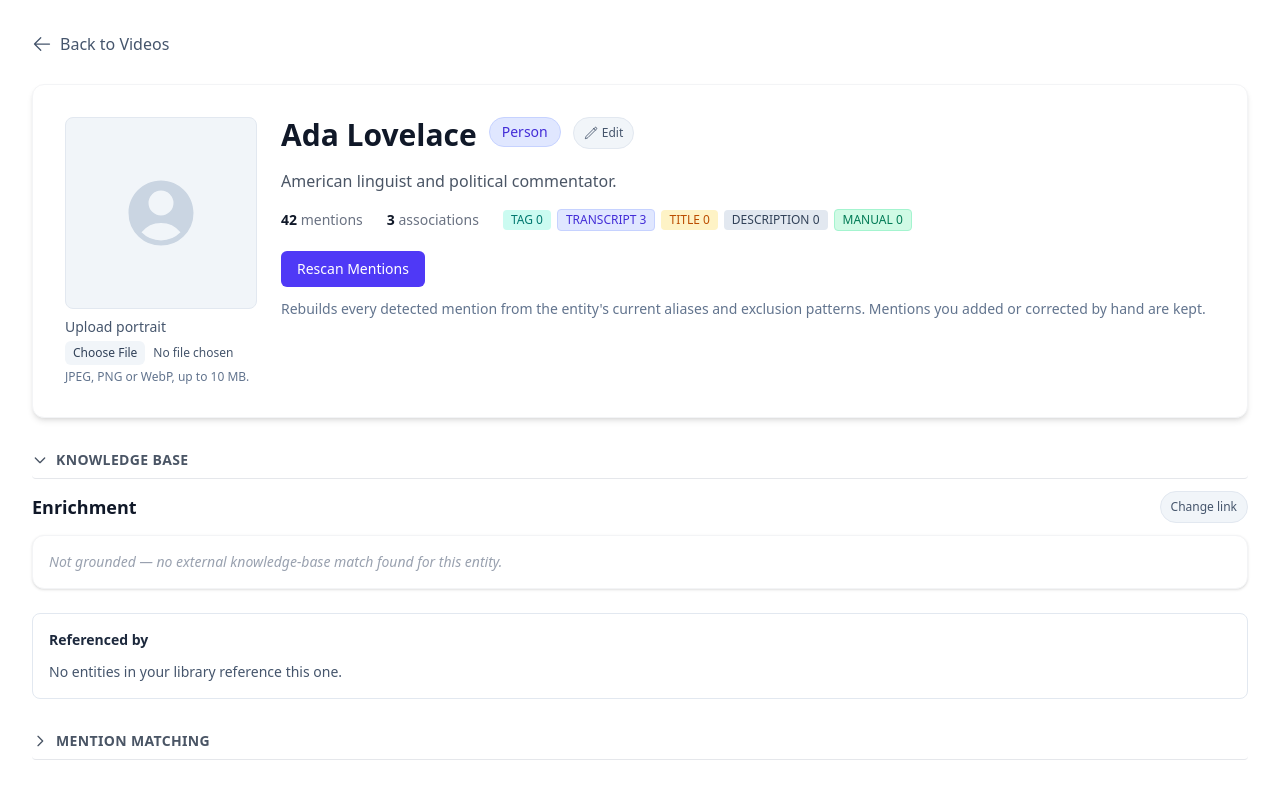
Test: AddAliasForm (inside EntityDetailPage) › Test 3 — Successful alias creation › shows a success message after creation
Click the button "Mention matching" at (133, 740), box [32,723,1248,760]
(page scrolled)
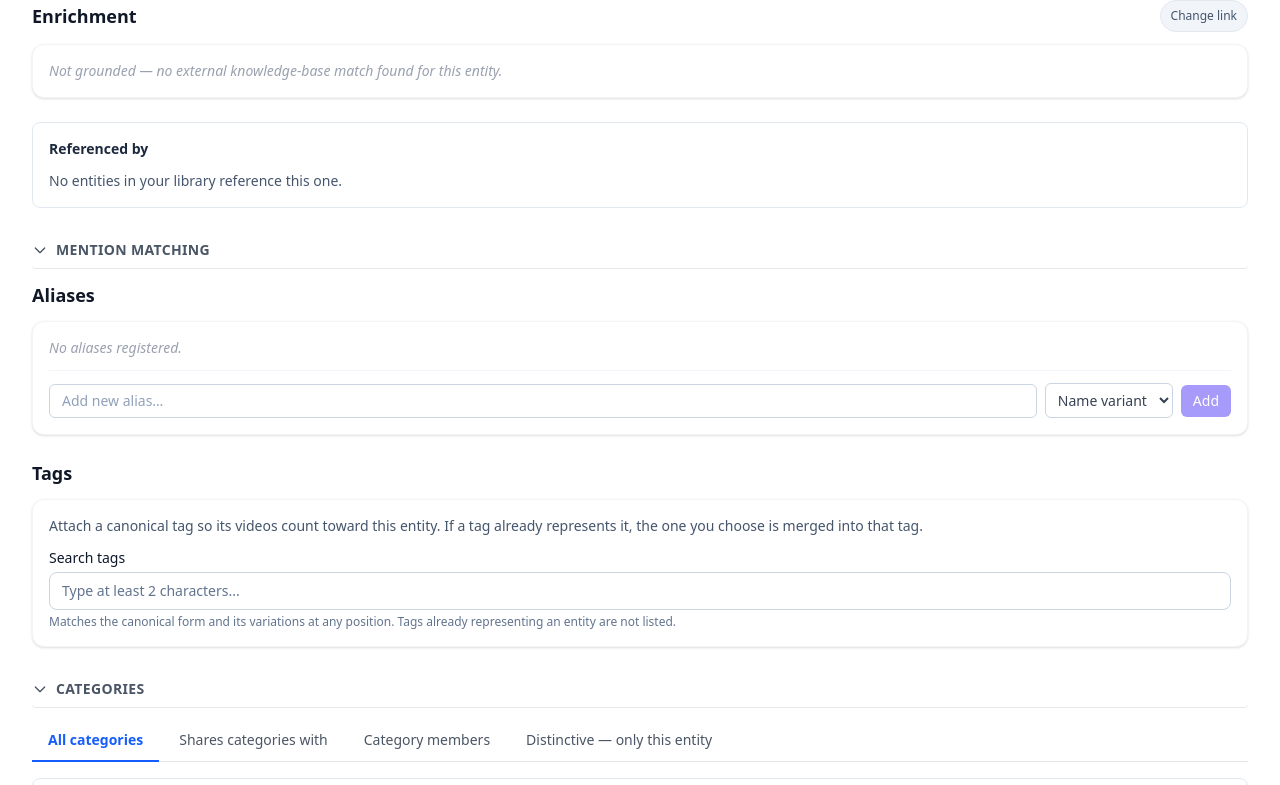
Type "Lovelace" into the field named "alias name" at (543, 400), box [49,384,1037,418]
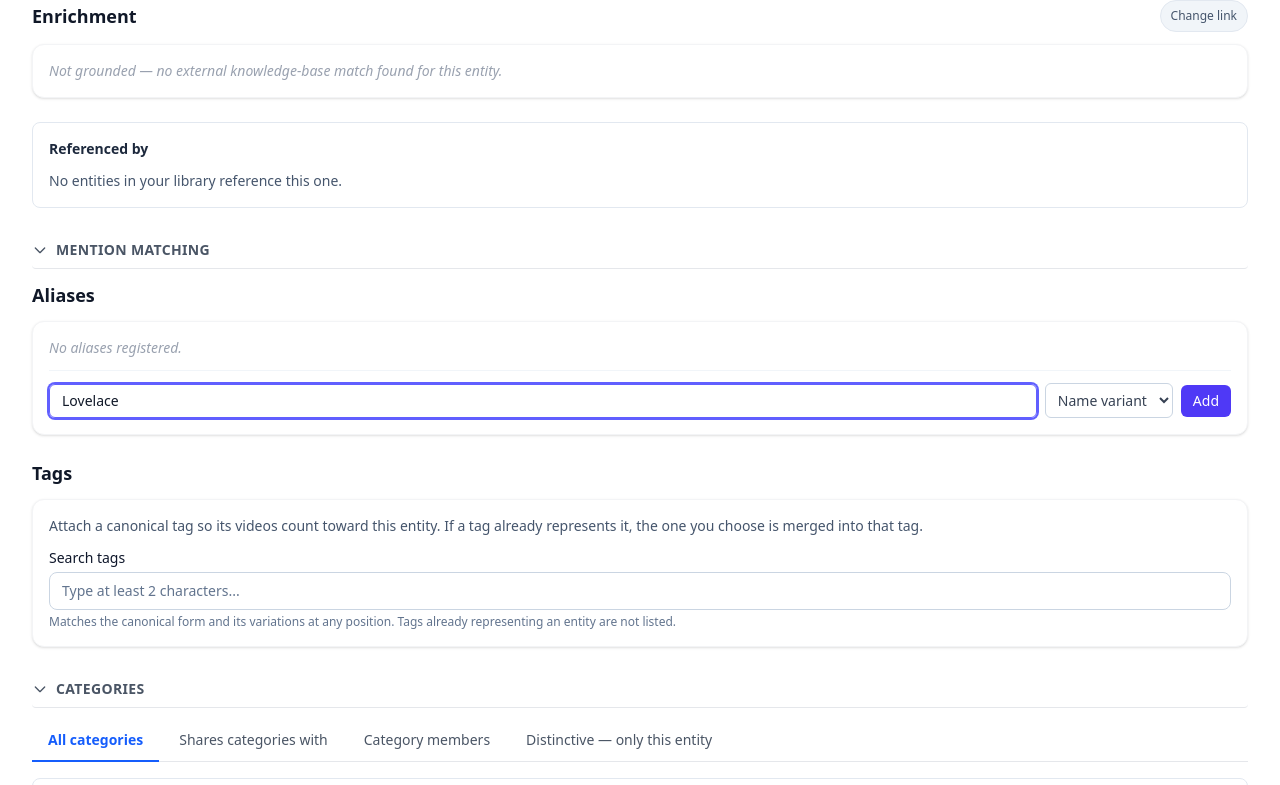
Click the button "Add" at (1206, 400), box [1181,384,1231,416]
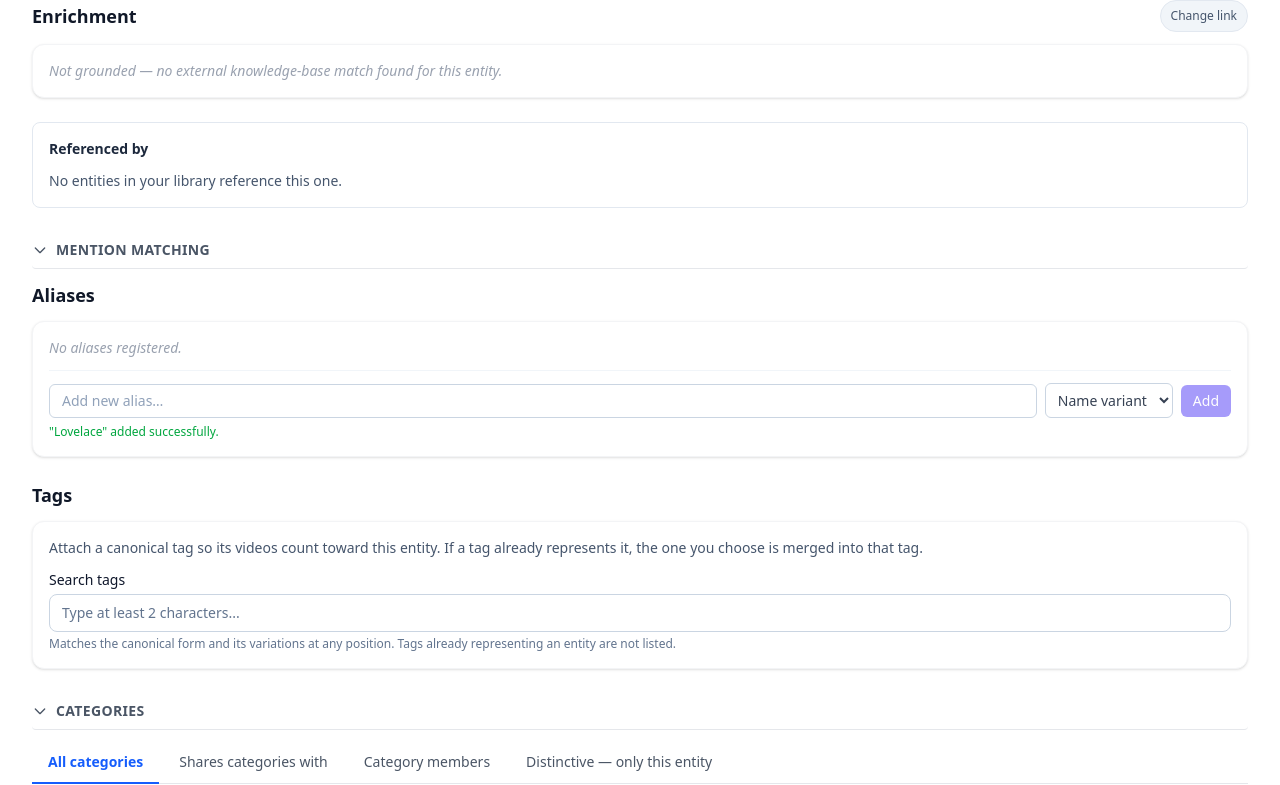
Expected: the text "\"Lovelace\" added successfully." is shown, [49,423,219,440]
